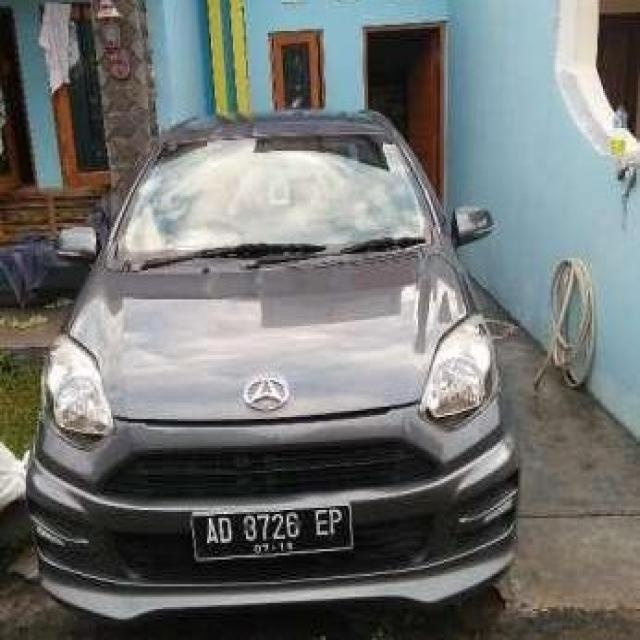plate: (194, 506, 355, 557)
